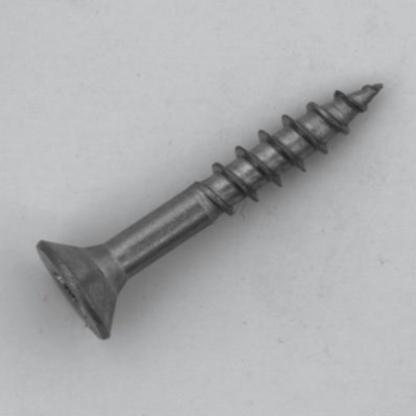metal: (35, 81, 383, 339)
